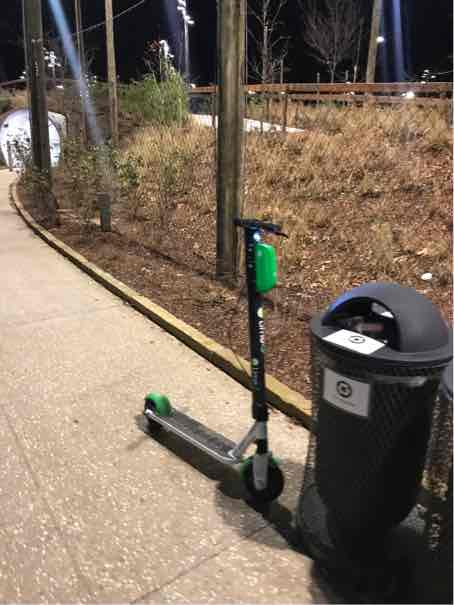scooter: (125, 199, 296, 524)
